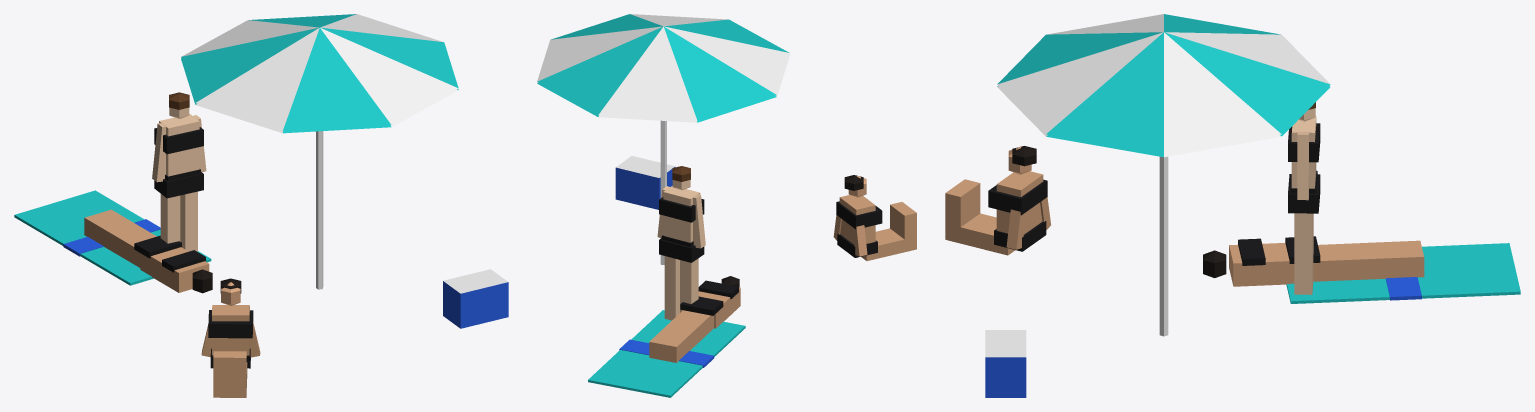
The model's file is nudista_grupo_5.obj.
3 views of the same model, side by side, from view 1: azimuth 30°, elevation 25°; view 2: azimuth 150°, elevation 25°; view 3: azimuth 270°, elevation 25° (orthographic). The views are drawn at different scales.
Parts seen in each view (by area): view 1: nudista_grupo_5; view 2: nudista_grupo_5; view 3: nudista_grupo_5.
Boxes of the visible parts, box(x1,y1,x2,y2) form: nudista_grupo_5: box(14, 14, 508, 397); nudista_grupo_5: box(537, 14, 916, 397); nudista_grupo_5: box(945, 14, 1520, 397).
Bounding box in the file's own units: 3.31 × 2.6 × 4.48.
